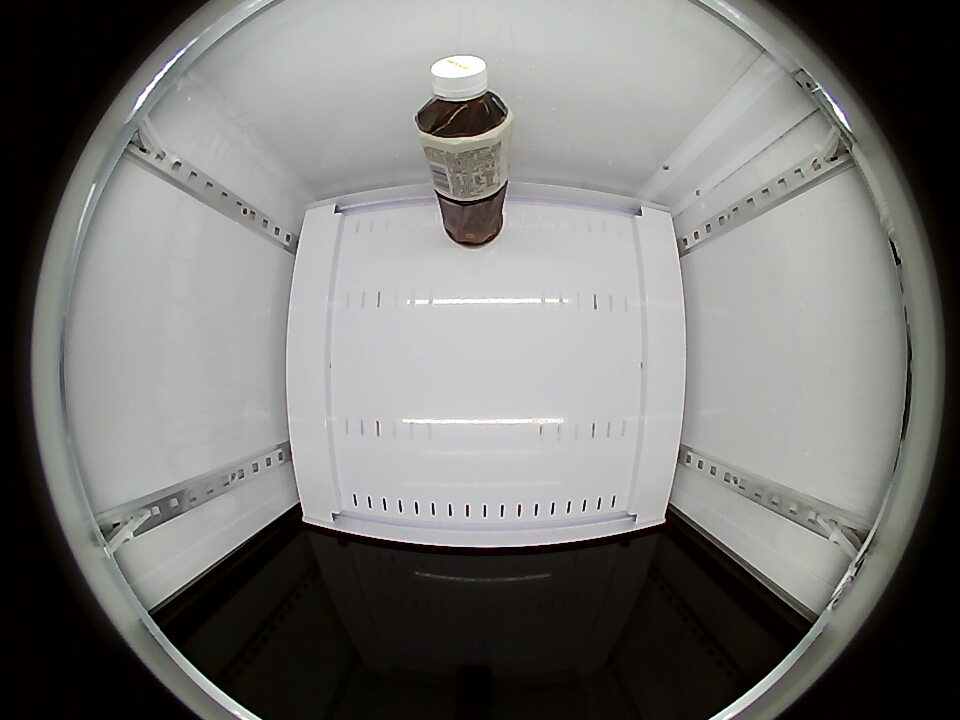wulongcha: (415, 54, 511, 145)
